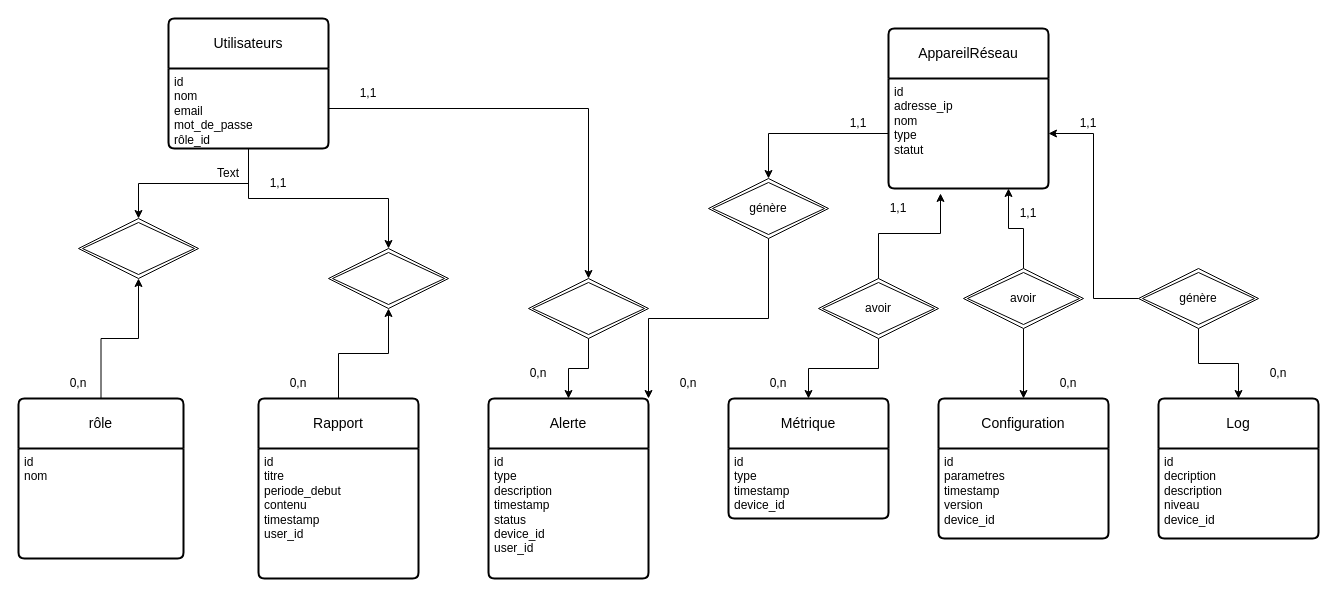
Image size: 1336x596. Some labels were removed from this diagram. Each missing label, with the centre of its shape:
"faire" goes at pixel 388 278.
"gérer" goes at pixel 588 308.
"possède" goes at pixel 138 248.
